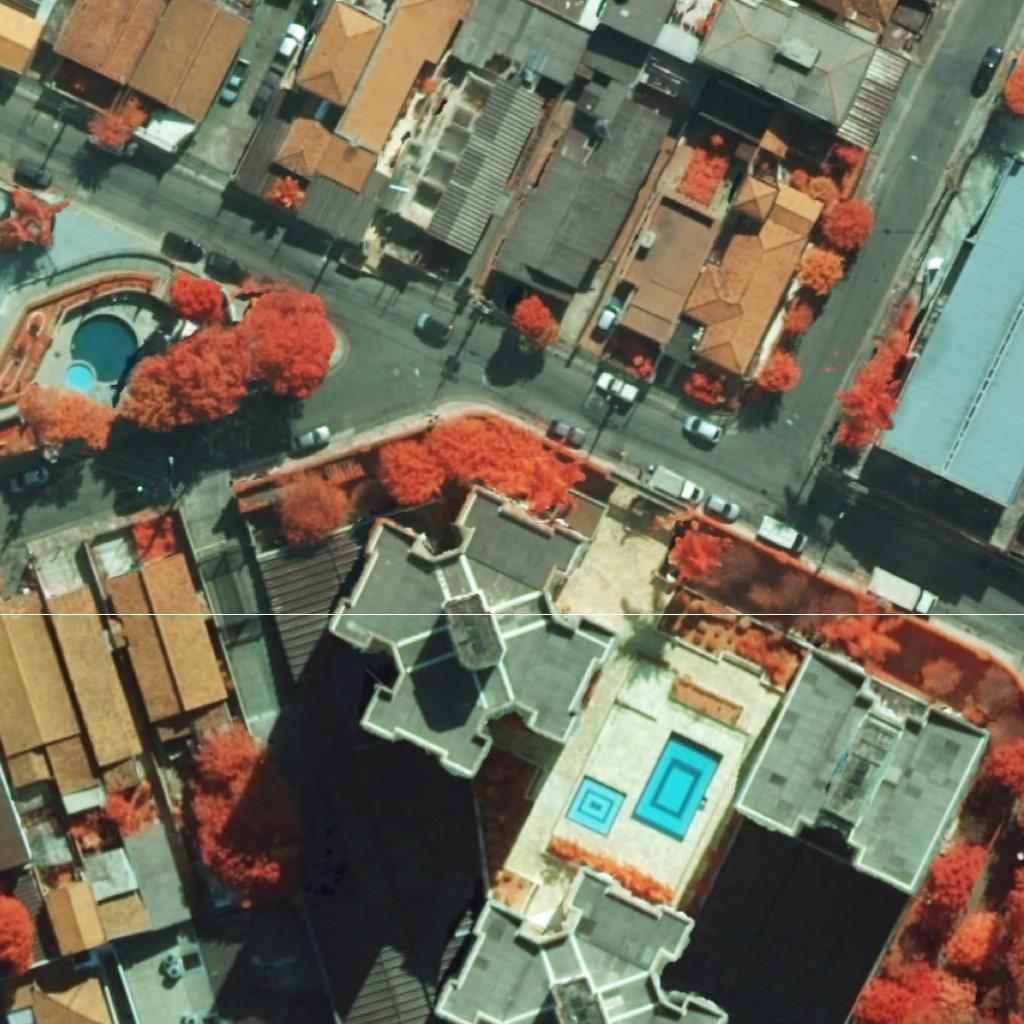pool: (632, 731, 723, 842), (70, 315, 138, 383), (566, 776, 626, 836), (66, 365, 93, 390)
